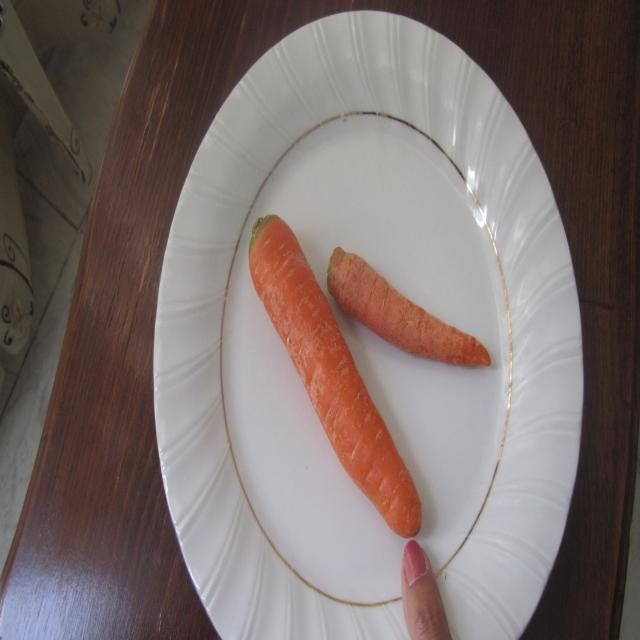carrot: (229, 214, 494, 538)
